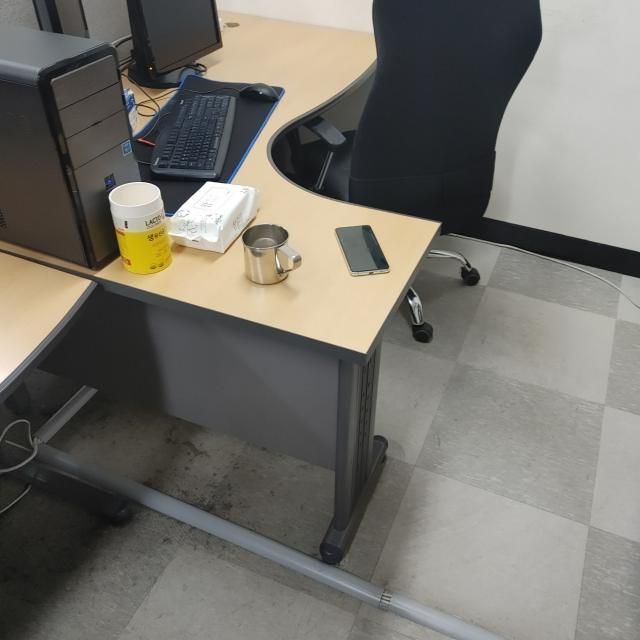cup: (243, 224, 303, 287)
phone: (333, 222, 393, 280)
